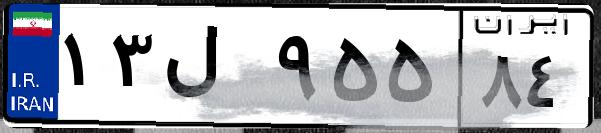1: (57, 26, 110, 100)
3: (110, 28, 158, 98)
4: (525, 38, 570, 115)
5: (385, 28, 445, 110), (330, 28, 385, 110)
8: (475, 38, 525, 113)
9: (270, 28, 330, 110)
ل: (158, 20, 270, 120)
